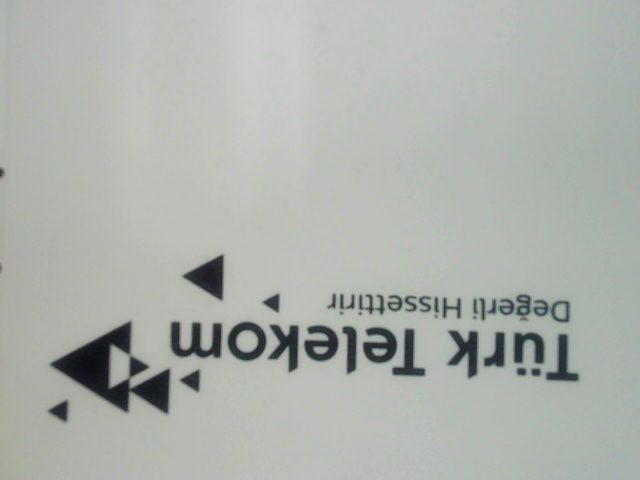AQ_TURKTelekom: (37, 249, 584, 422)
